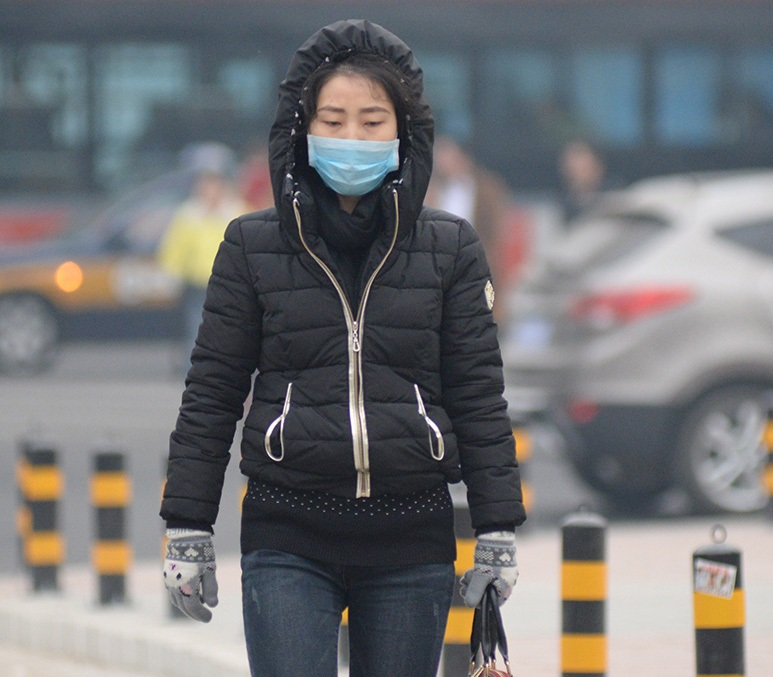face_mask: (309, 71, 399, 190)
